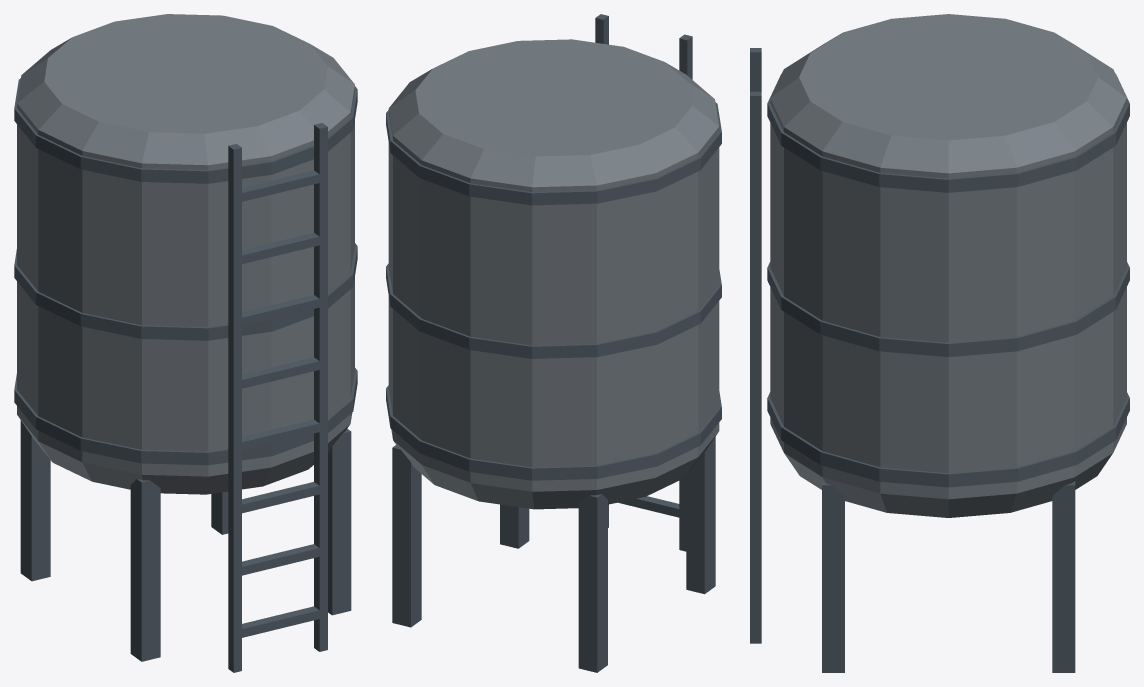
The model's file is water_tank.glb.
The picture shows the model from 3 angles, left to right: view 1: azimuth 30°, elevation 25°; view 2: azimuth 150°, elevation 25°; view 3: azimuth 270°, elevation 25°; orthographic projection. The views are drawn at different scales.
Visible parts, largest first — view 1: Tank, Ladder_Rail, Ladder_Rail.001, Leg, SteelBand.002, SteelBand.001, SteelBand, Leg.001, Leg.002, Ladder_Rung.001, Ladder_Rung.002, Ladder_Rung.007 (+6 smaller); view 2: Tank, Leg.001, Leg.003, SteelBand.002, SteelBand.001, SteelBand, Leg, Leg.002, Ladder_Rail, Ladder_Rung; view 3: Tank, Ladder_Rail.001, SteelBand.002, SteelBand, SteelBand.001, Leg.003, Leg.002.
Part boxes in pixels (x1=…): Tank: x1=17, y1=14, x2=354, y2=494; Ladder_Rail: x1=228, y1=144, x2=241, y2=672; Ladder_Rail.001: x1=314, y1=123, x2=327, y2=651; Leg: x1=130, y1=479, x2=160, y2=661; SteelBand.002: x1=14, y1=78, x2=357, y2=183; SteelBand.001: x1=14, y1=243, x2=357, y2=340; SteelBand: x1=14, y1=368, x2=357, y2=465; Leg.001: x1=20, y1=420, x2=50, y2=581; Leg.002: x1=328, y1=429, x2=351, y2=615; Ladder_Rung.001: x1=235, y1=544, x2=325, y2=576; Ladder_Rung.002: x1=235, y1=482, x2=325, y2=514; Ladder_Rung.007: x1=235, y1=170, x2=325, y2=202; Tank: x1=388, y1=39, x2=719, y2=509; Leg.001: x1=578, y1=494, x2=607, y2=672; Leg.003: x1=392, y1=445, x2=421, y2=627; SteelBand.002: x1=386, y1=102, x2=721, y2=205; SteelBand.001: x1=386, y1=263, x2=721, y2=358; SteelBand: x1=386, y1=385, x2=721, y2=480; Leg: x1=686, y1=437, x2=715, y2=594; Leg.002: x1=500, y1=504, x2=529, y2=548; Ladder_Rail: x1=679, y1=34, x2=692, y2=551; Ladder_Rung: x1=618, y1=496, x2=685, y2=519; Tank: x1=770, y1=14, x2=1126, y2=517; Ladder_Rail.001: x1=750, y1=91, x2=761, y2=643; SteelBand.002: x1=767, y1=74, x2=1129, y2=192; SteelBand: x1=767, y1=392, x2=1129, y2=487; SteelBand.001: x1=767, y1=262, x2=1129, y2=356; Leg.003: x1=1052, y1=481, x2=1075, y2=672; Leg.002: x1=822, y1=481, x2=844, y2=672.
Bounding box in the file's own units: 1.26 × 2.1 × 1.32.
1 material, 1 textured.
